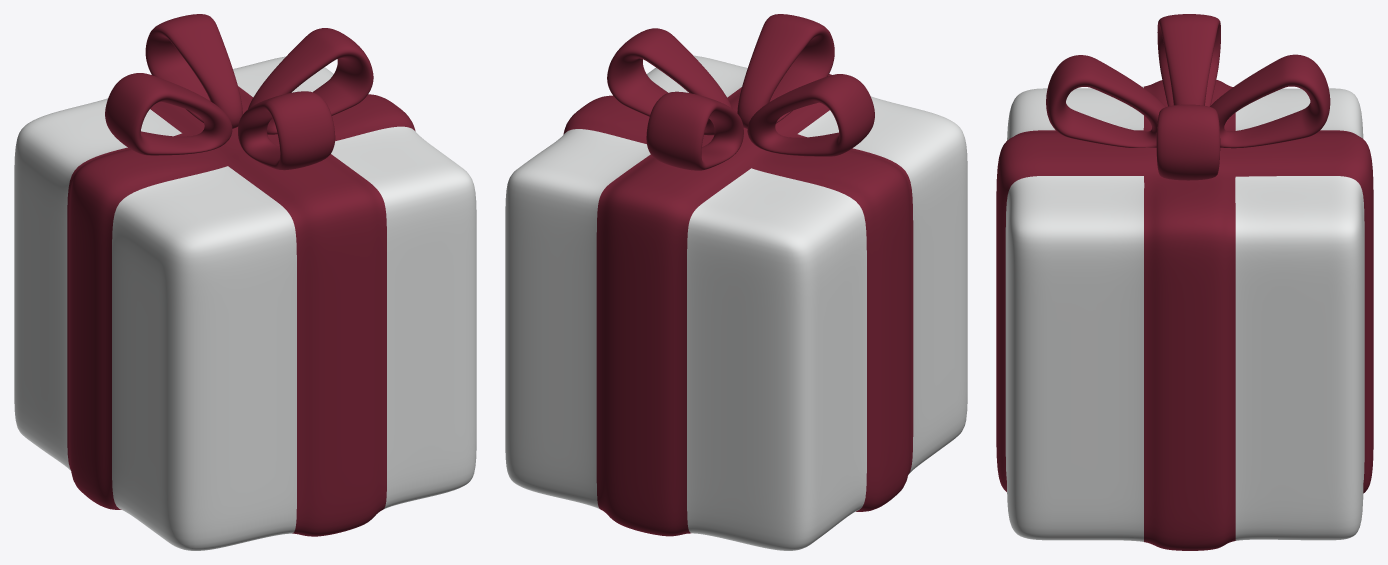
Rendered from giftBig.fbx.
The picture shows the model from 3 angles, left to right: view 1: azimuth 30°, elevation 25°; view 2: azimuth 150°, elevation 25°; view 3: azimuth 270°, elevation 25°; orthographic projection.
Visible parts, largest first — view 1: giftBig; view 2: giftBig; view 3: giftBig.
Part boxes in pixels (x1,y1,x2,y2): giftBig: [14, 14, 476, 550]; giftBig: [505, 14, 967, 550]; giftBig: [996, 14, 1373, 550].
Bounding box in the file's own units: 0.439 × 0.543 × 0.443.
